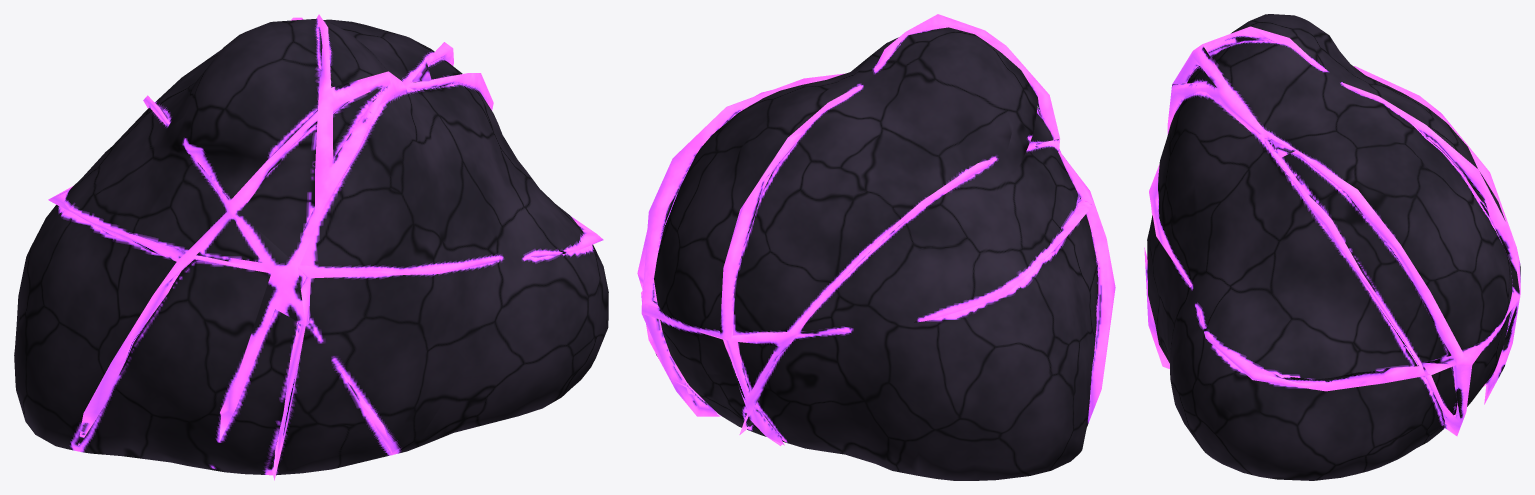
Rendered from roca_alien_a.fbx.
3 renders of one model, left to right at view 1: azimuth 30°, elevation 25°; view 2: azimuth 150°, elevation 25°; view 3: azimuth 270°, elevation 25°, orthographic. The views are drawn at different scales.
Visible parts, largest first — view 1: roca, venas_neon; view 2: roca, venas_neon; view 3: roca, venas_neon.
Part boxes in pixels (box(x1,y1,x2,y2)): roca: box(14, 18, 608, 475); venas_neon: box(48, 14, 603, 480); roca: box(654, 27, 1098, 480); venas_neon: box(637, 14, 1115, 445); roca: box(1147, 14, 1512, 480); venas_neon: box(1144, 26, 1520, 436).
Size of the model in its own units: 3.98 by 3.02 by 2.97.
Materials: 1 (1 with a texture image).
